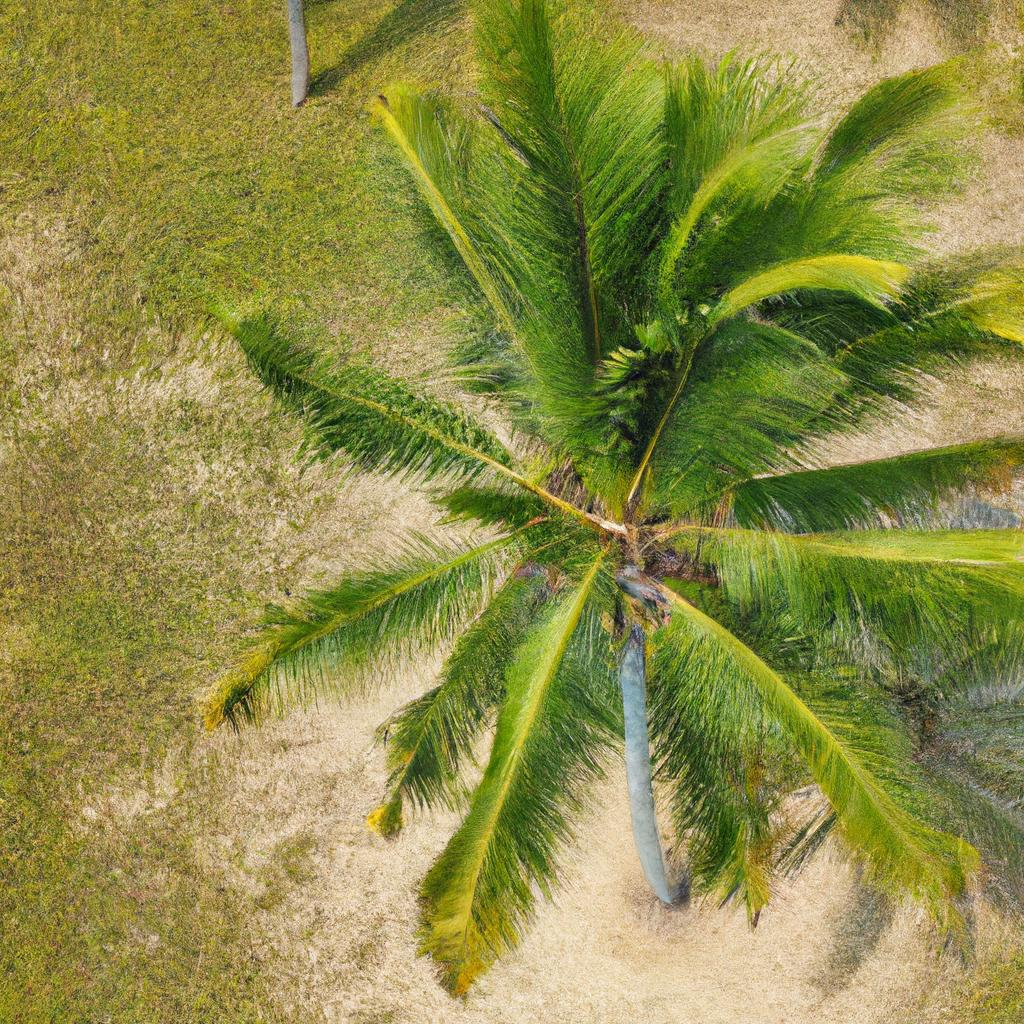coconut_tree: (127, 2, 1023, 1020)
